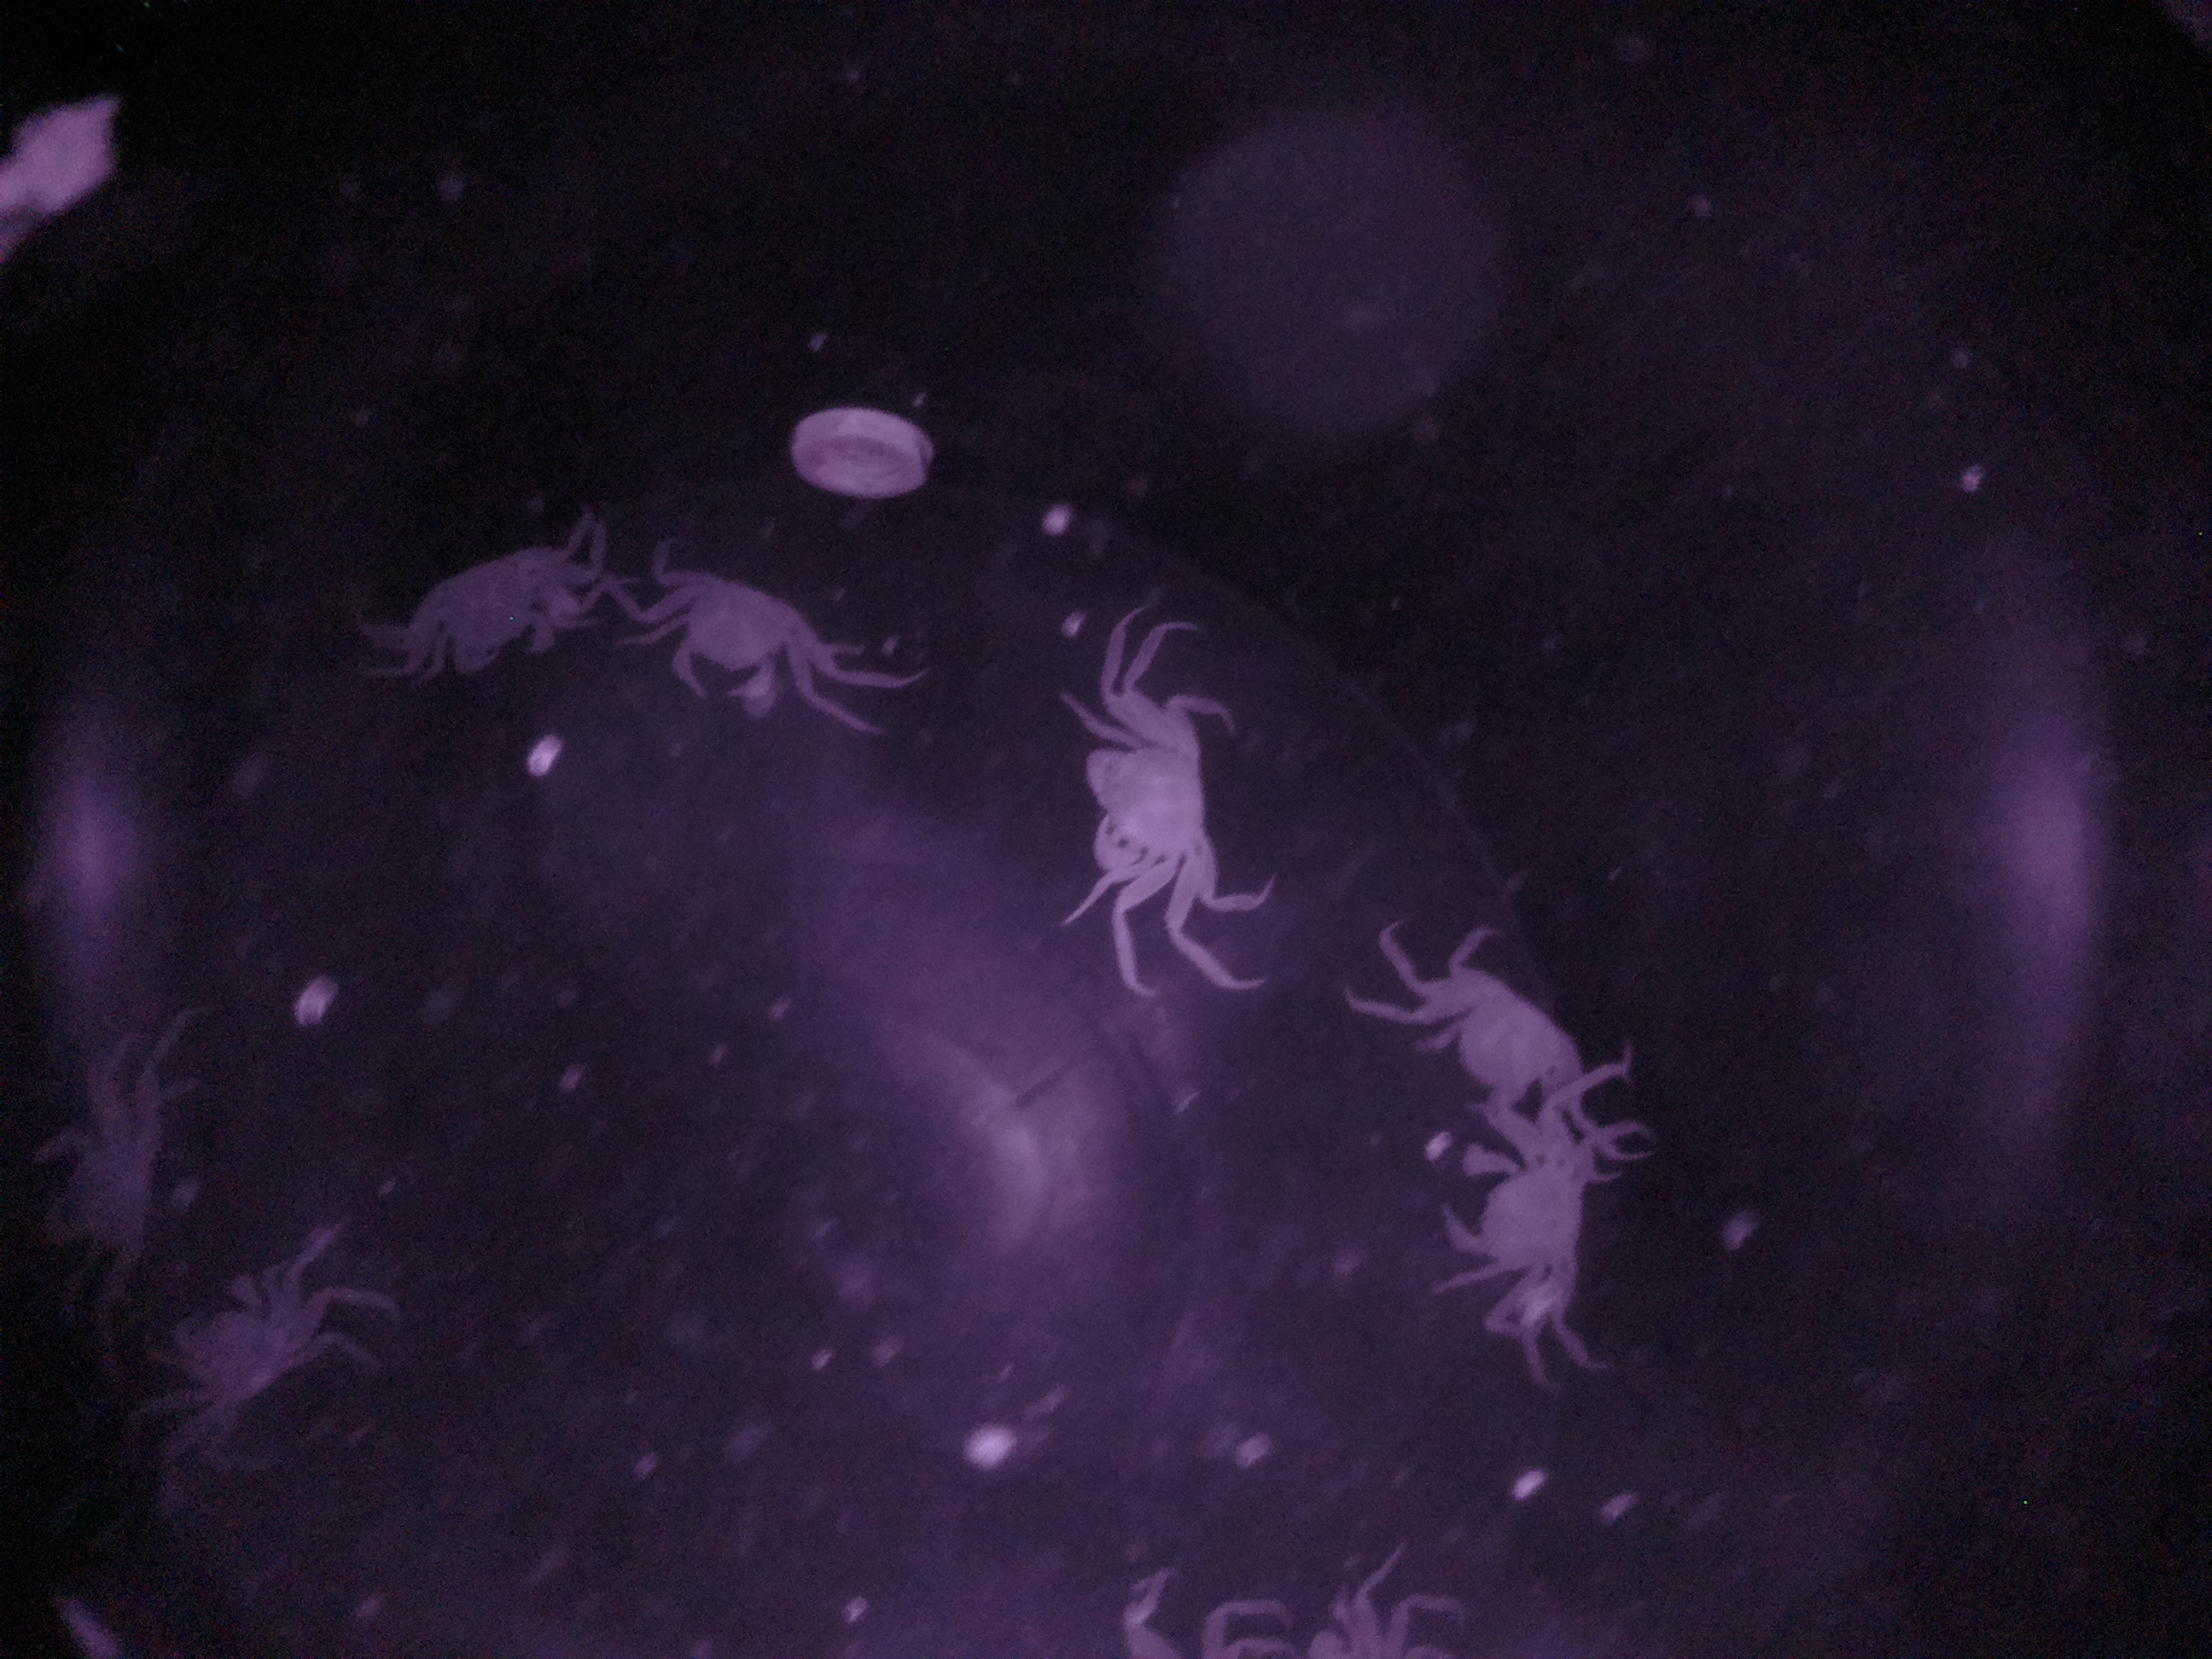Crab: (606, 547, 881, 739), (1057, 660, 1237, 927), (1402, 932, 1629, 1136)
